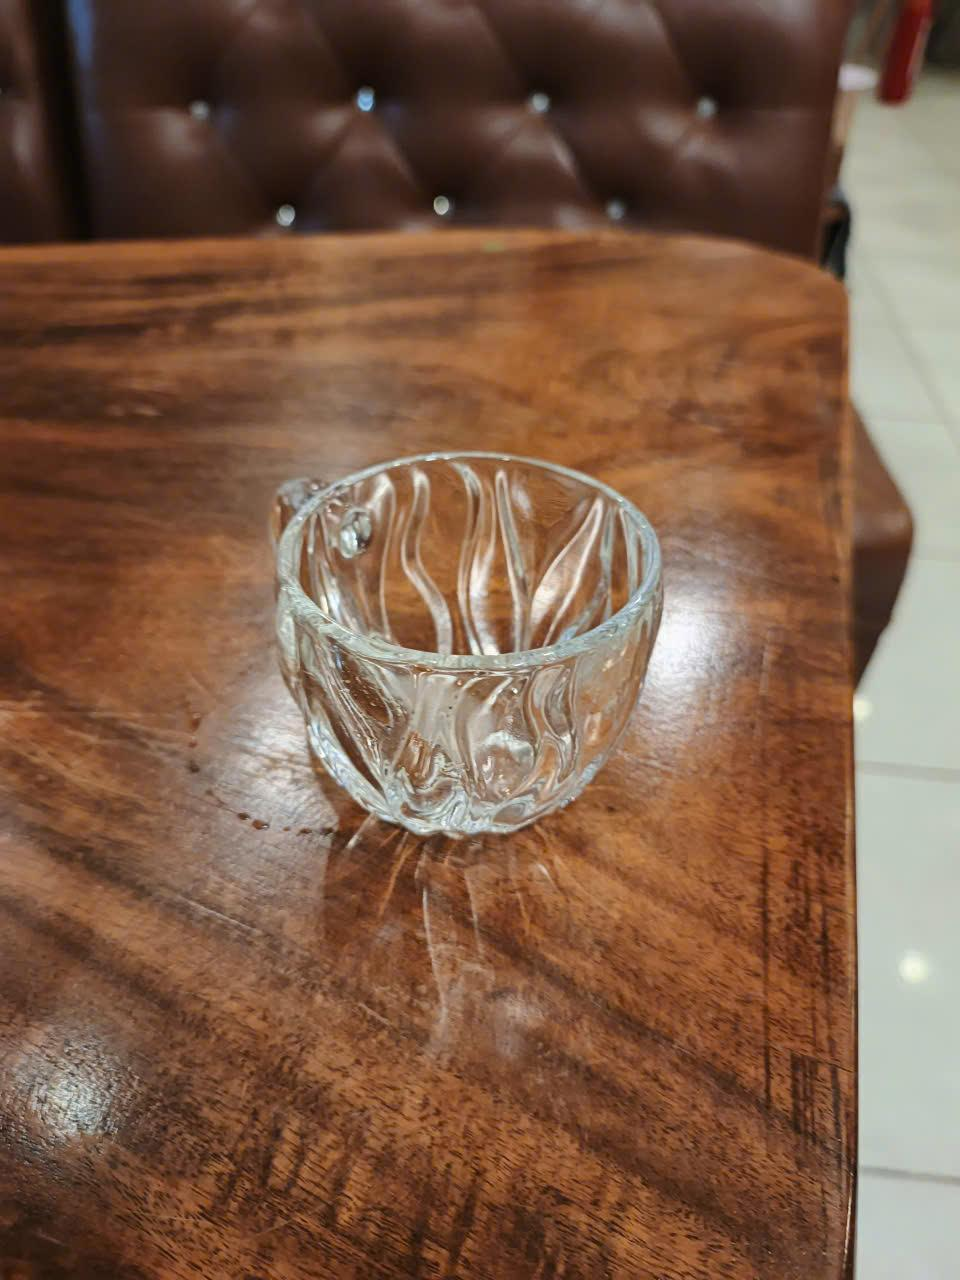Vo co: (270, 456, 668, 839)
